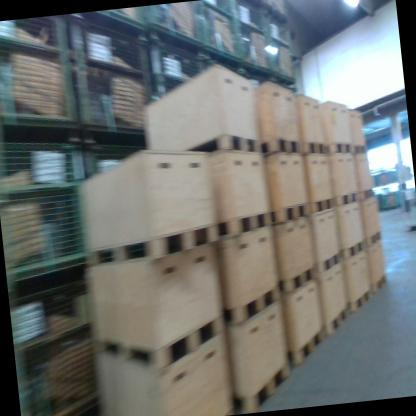stillage: (9, 265, 107, 416), (0, 134, 92, 290), (64, 25, 162, 157), (0, 19, 78, 146), (145, 26, 211, 104), (140, 1, 201, 60), (192, 0, 241, 73), (230, 0, 271, 83), (264, 11, 302, 92), (66, 10, 149, 47), (263, 0, 291, 24)
